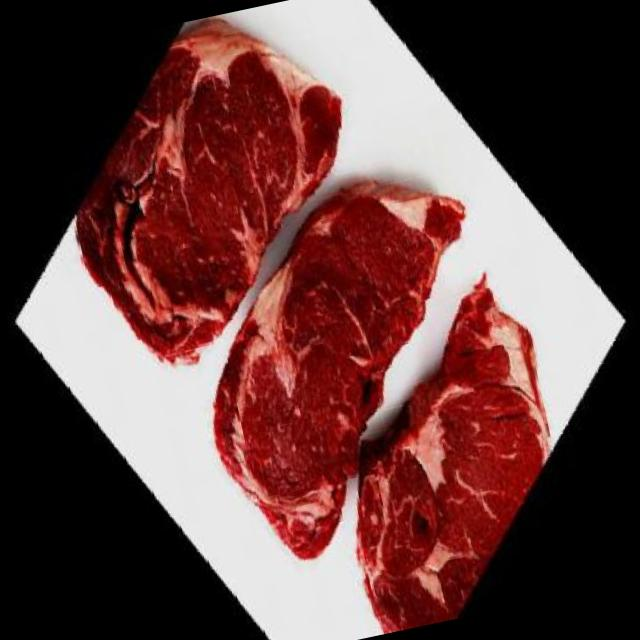beef: (123, 66, 560, 597), (19, 0, 415, 433), (250, 225, 625, 640)
